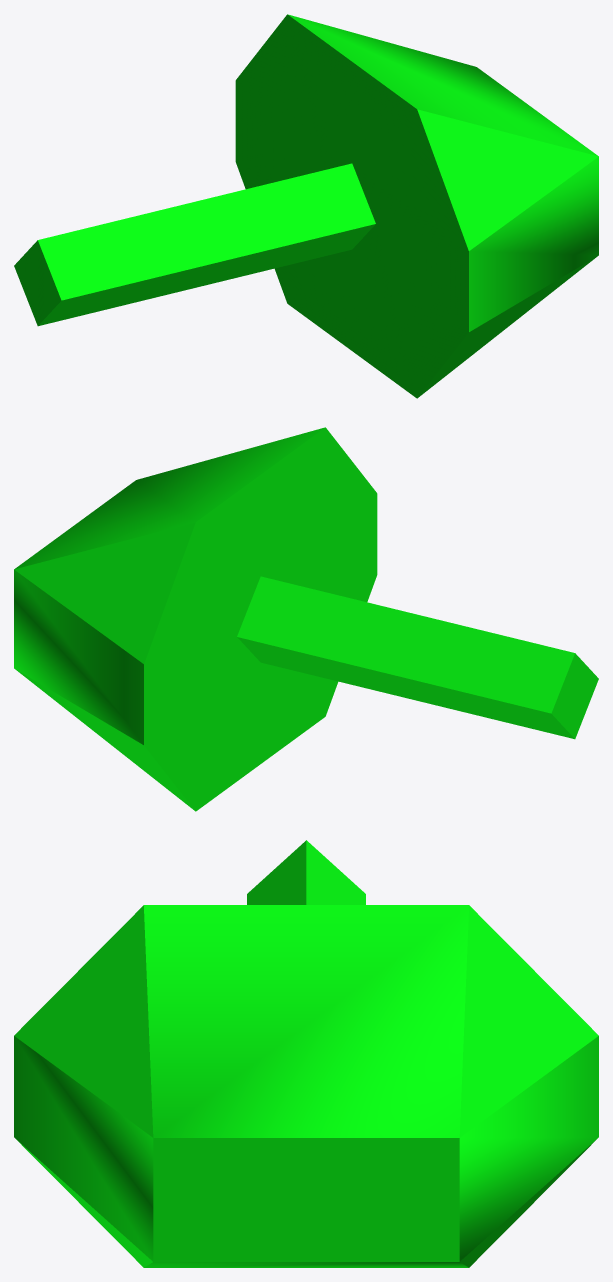
File: SM_Toster_01_Button_01_Collider.fbx
3 views of the same model, one above another, from view 1: azimuth 30°, elevation 25°; view 2: azimuth 150°, elevation 25°; view 3: azimuth 270°, elevation 25° (orthographic). The views are drawn at different scales.
Parts seen in each view (by area): view 1: SM_Toster_01_Button_01_Collider; view 2: SM_Toster_01_Button_01_Collider; view 3: SM_Toster_01_Button_01_Collider.
Boxes of the visible parts, bbox=[...] form: SM_Toster_01_Button_01_Collider: bbox=[14, 14, 598, 398]; SM_Toster_01_Button_01_Collider: bbox=[14, 427, 598, 811]; SM_Toster_01_Button_01_Collider: bbox=[14, 840, 598, 1267].
Bounding box in the file's own units: 10.66 × 5.9 × 8.62.
